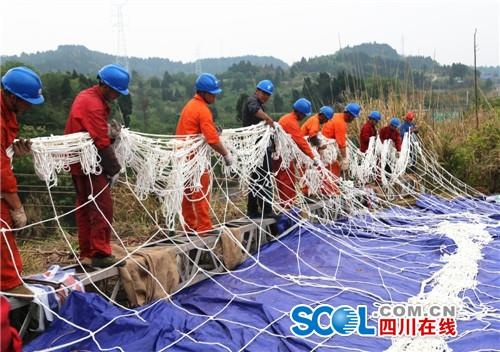blue: (1, 65, 41, 113), (98, 63, 130, 102), (195, 71, 221, 104), (255, 77, 274, 103), (292, 97, 311, 120), (344, 100, 360, 122), (316, 105, 334, 124), (367, 111, 380, 127), (388, 118, 398, 131)
red: (404, 110, 414, 124)
